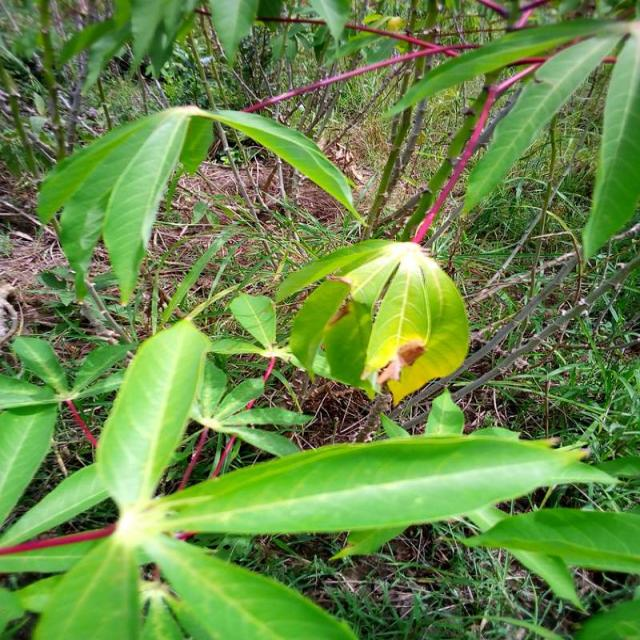cassava leaf: (37, 103, 365, 306), (157, 423, 618, 543), (279, 237, 471, 407), (95, 316, 212, 513)
